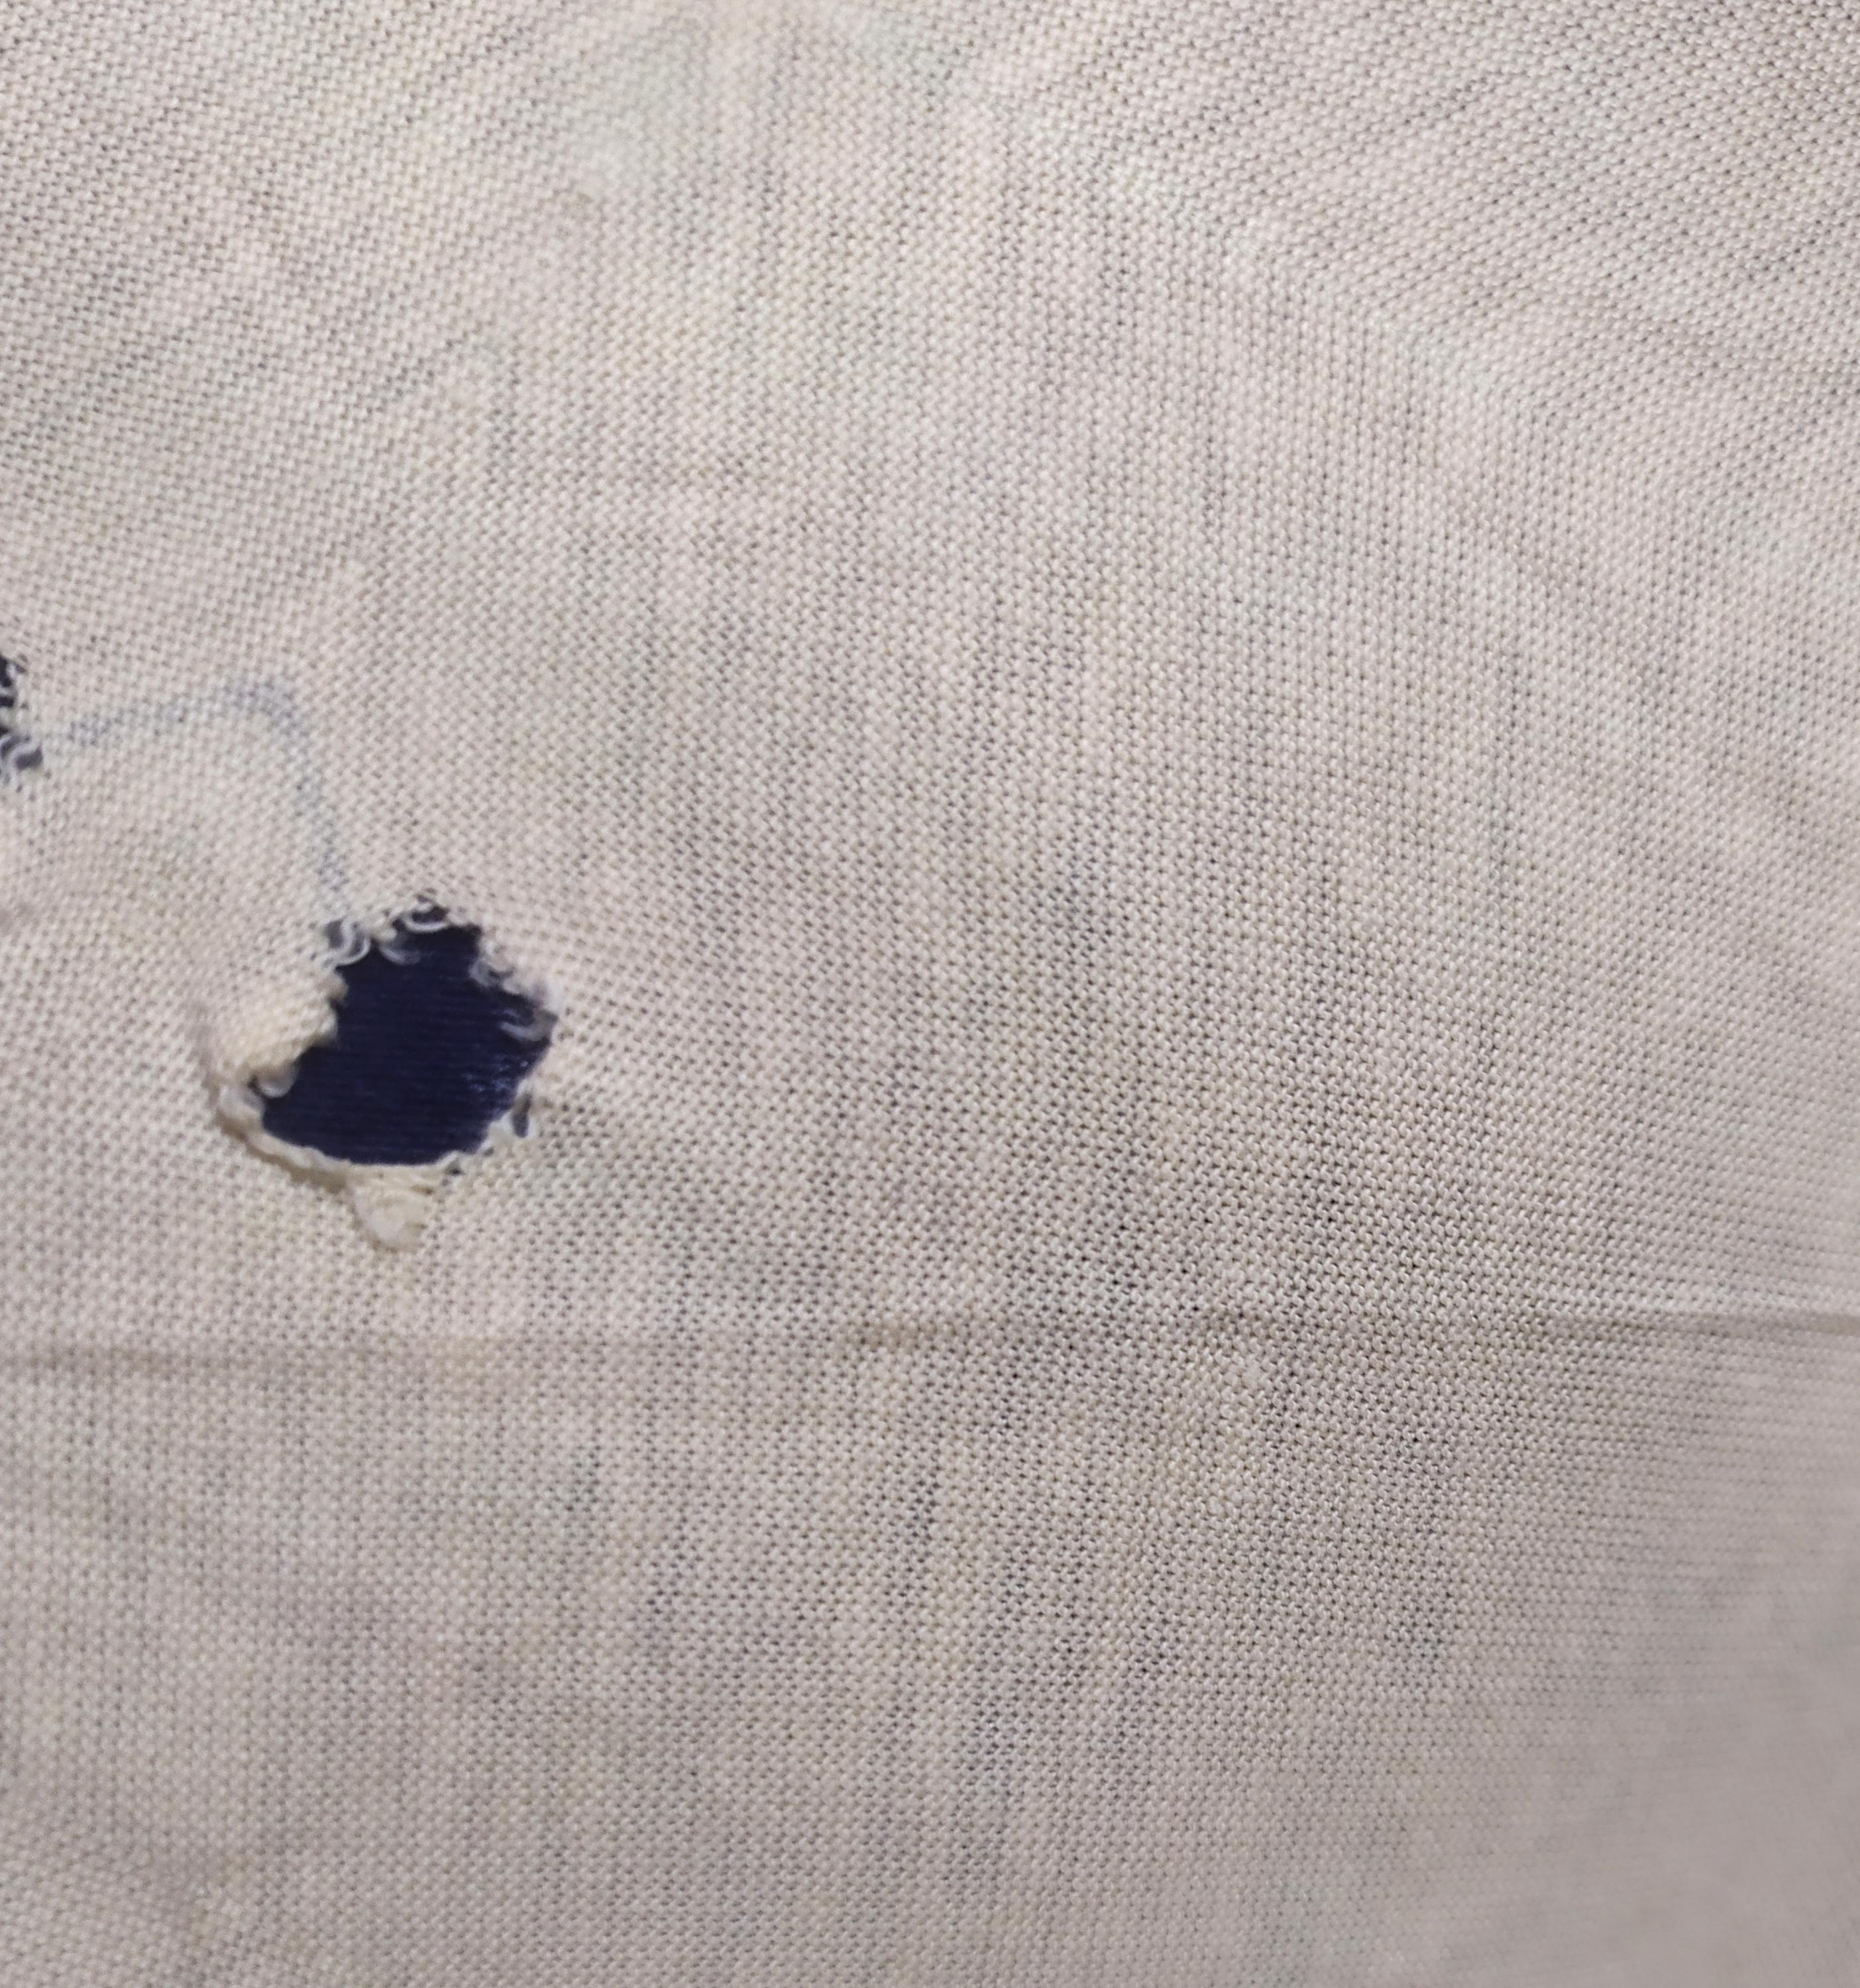hole: (191, 834, 596, 1227)
